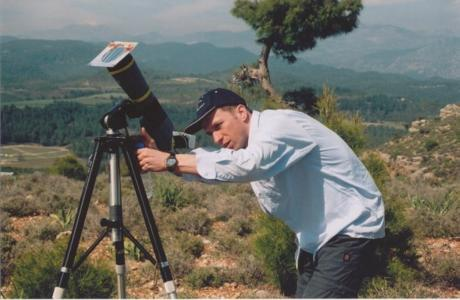person: (135, 89, 387, 298)
